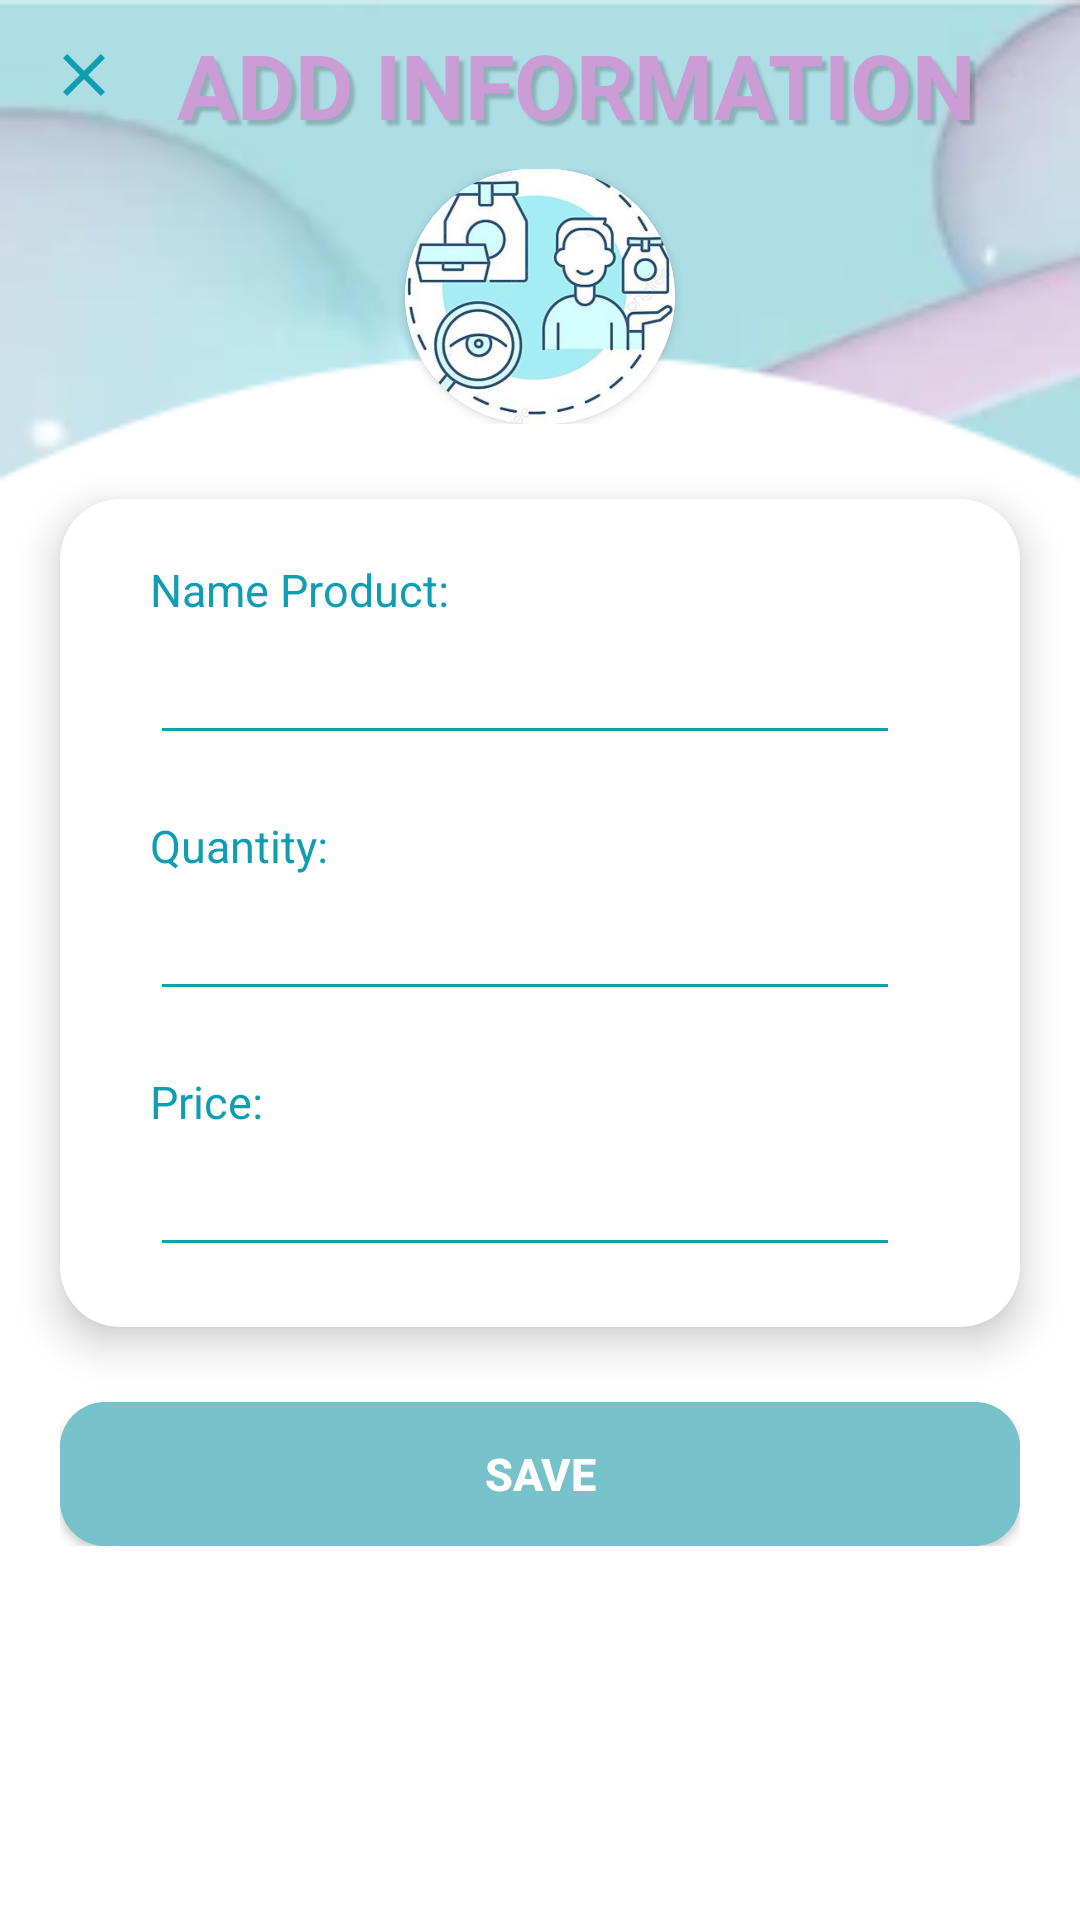

Icons on this 1080px×1920px Android screen, each with the point to tap as [x,y]:
close: [84,75]
